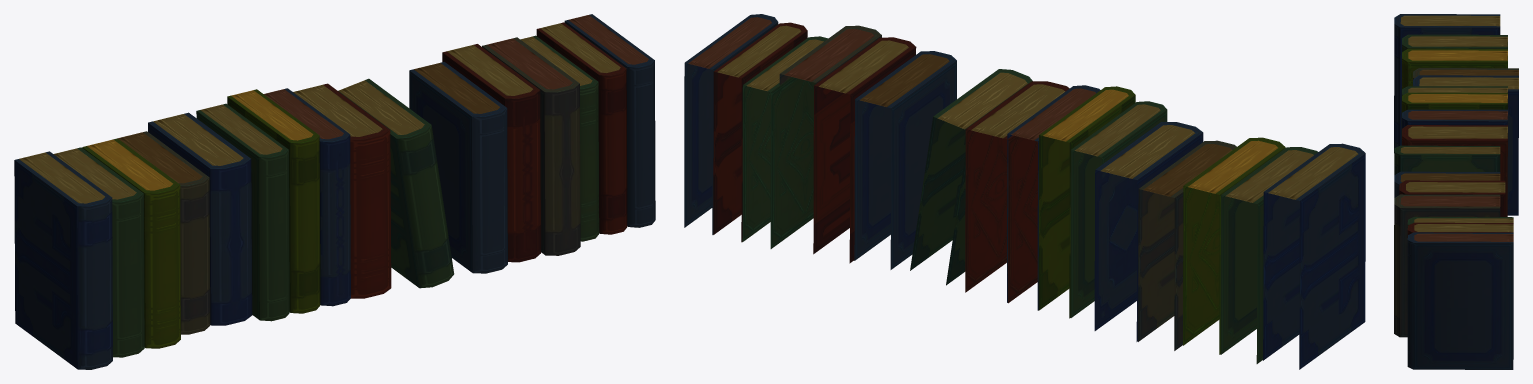
File: BookGroup_Medium_1.glb
The picture shows the model from 3 angles, left to right: view 1: azimuth 30°, elevation 25°; view 2: azimuth 150°, elevation 25°; view 3: azimuth 270°, elevation 25°; orthographic projection. The views are drawn at different scales.
Visible parts, largest first — view 1: BookGroup_Medium_1; view 2: BookGroup_Medium_1; view 3: BookGroup_Medium_1.
Boxes of the visible parts, x1,y1,x2,y2 form: BookGroup_Medium_1: [14, 14, 655, 369]; BookGroup_Medium_1: [684, 14, 1365, 369]; BookGroup_Medium_1: [1394, 14, 1518, 369].
Bounding box in the file's own units: 1.06 × 0.2983 × 0.2475.
Materials: 1 (1 with a texture image).
